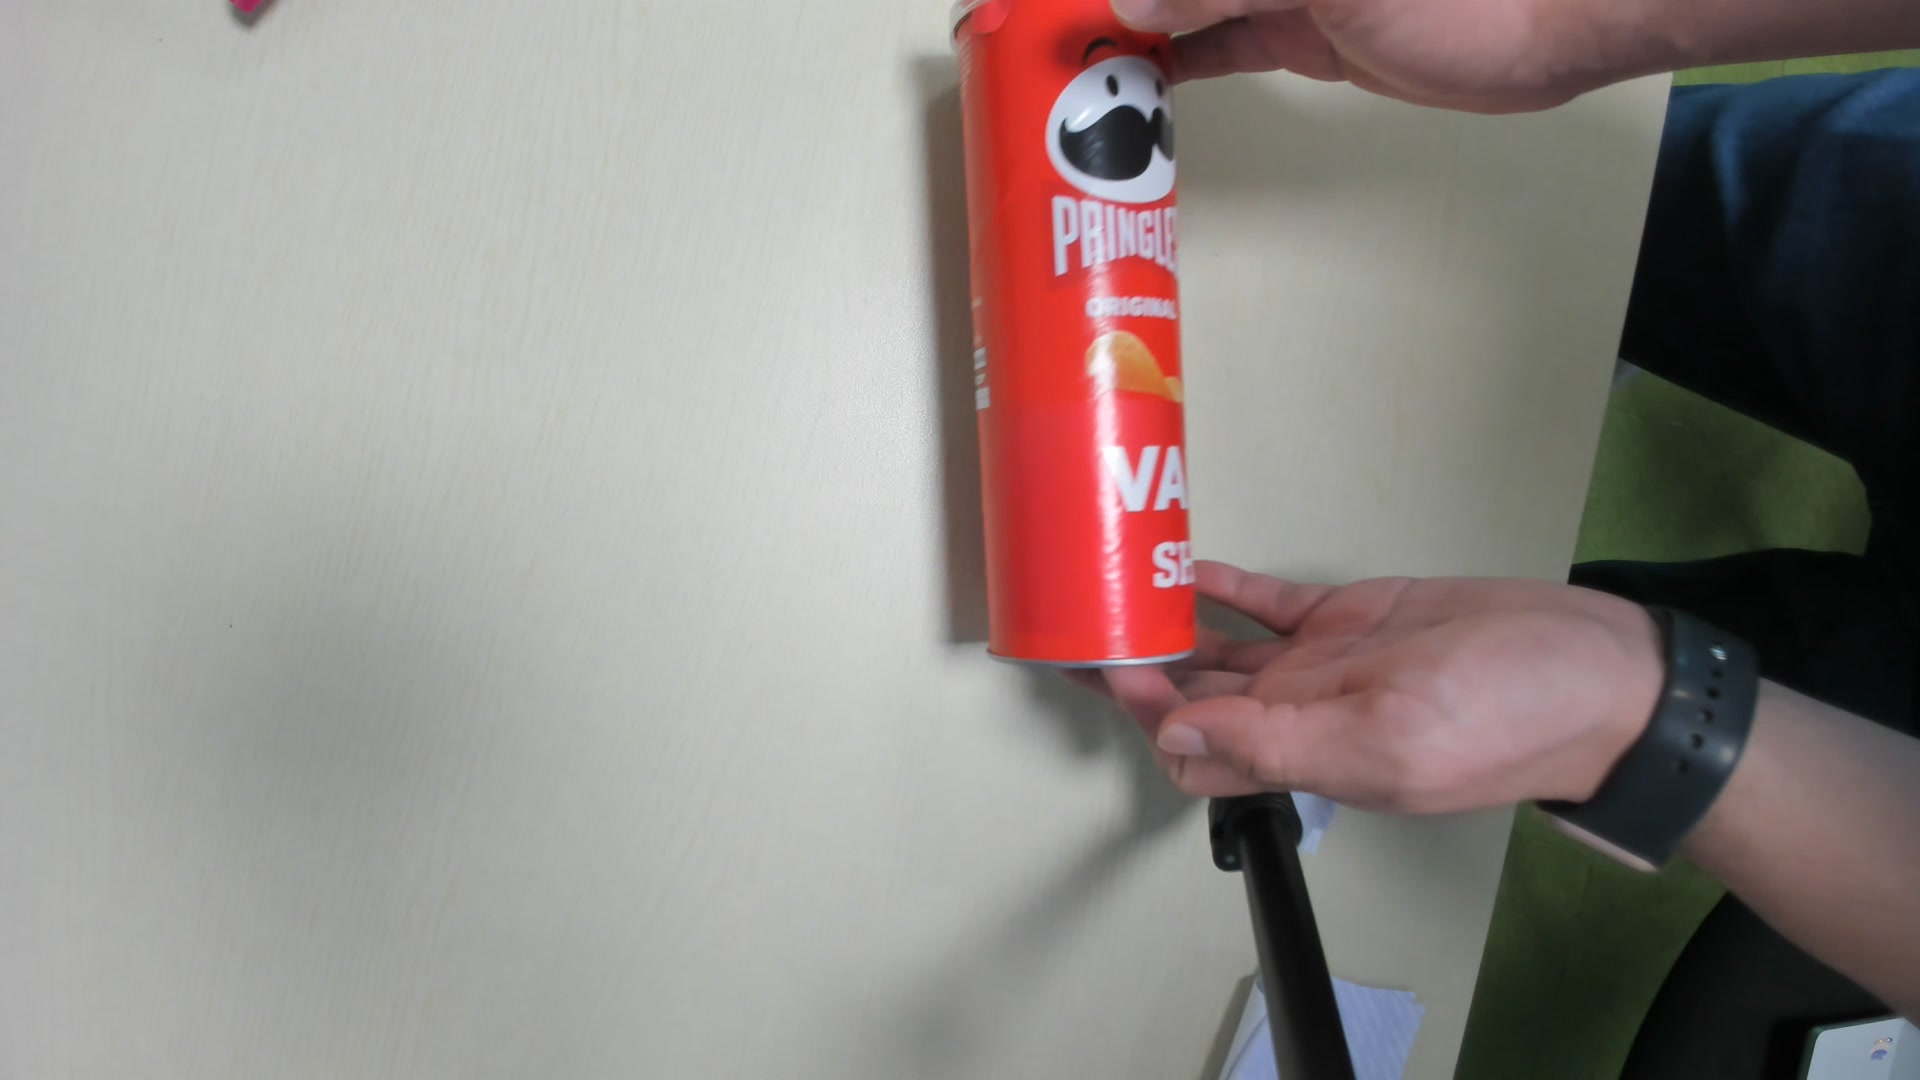PotatoChipsKeropok_100-199g_NonHalal_NonHealthy: (949, 1, 1207, 676)
